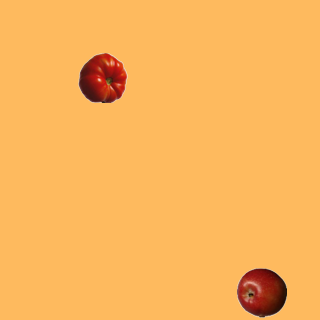Apple Braeburn: (236, 267, 286, 317)
Tomato 3: (77, 52, 127, 102)
